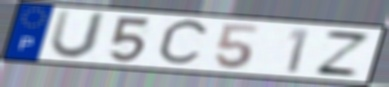1: (285, 28, 313, 75)
5: (213, 21, 262, 71), (106, 14, 156, 63)
C: (153, 17, 213, 69)
U: (46, 8, 111, 61)
Z: (310, 29, 374, 79)
